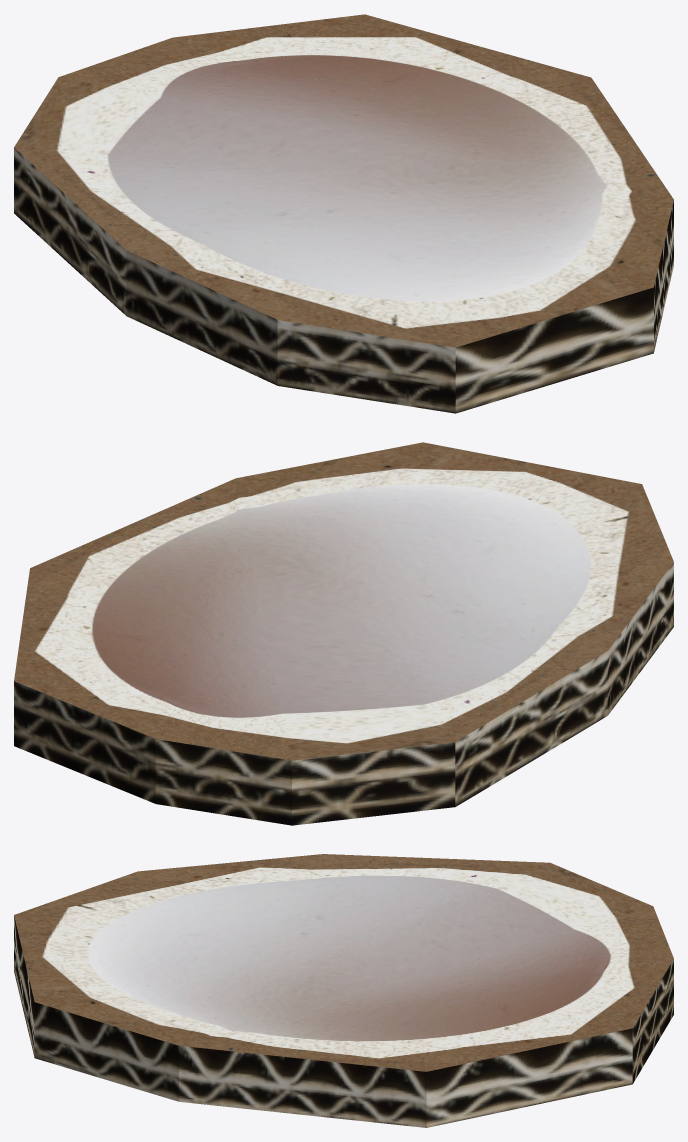
Rendered from Egg.obj.
3 renders of one model, top to bottom at view 1: azimuth 30°, elevation 25°; view 2: azimuth 150°, elevation 25°; view 3: azimuth 270°, elevation 25°, orthographic. The views are drawn at different scales.
Visible parts, largest first — view 1: Plane; view 2: Plane; view 3: Plane.
Part boxes in pixels (bbox=[...]): Plane: bbox=[14, 14, 673, 413]; Plane: bbox=[14, 442, 673, 825]; Plane: bbox=[14, 854, 673, 1127].
Size of the model in its own units: 1.25 by 0.15 by 1.6.
